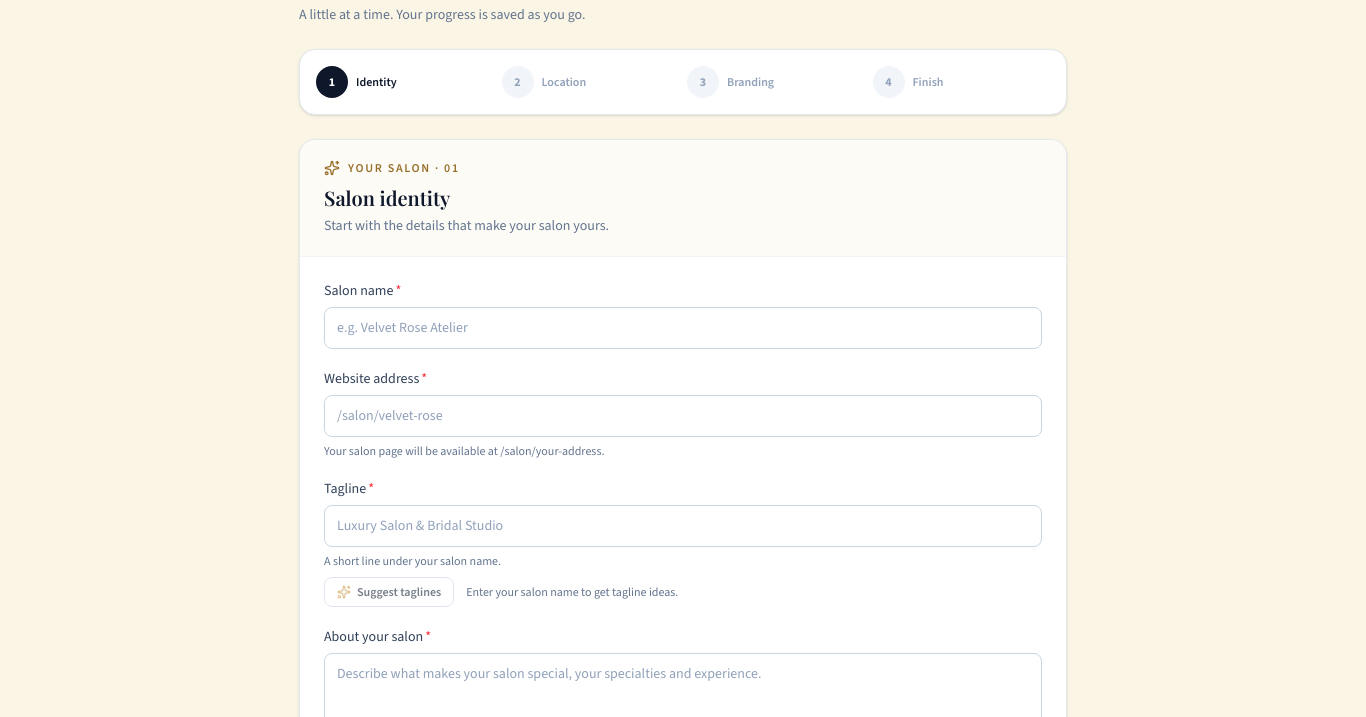
salon onboarding wizard › validates every step, resumes a typed device backup, and completes into the dashboard
Later steps or results of the test are not shown.
Expected: the heading "Salon identity" is shown, [324,184,450,211]
Expected: the field labelled "Street address" is not shown
Step 1. Type "Rose Studio" into the field labelled "Salon name" → (683, 328), box [324,307,1042,349]
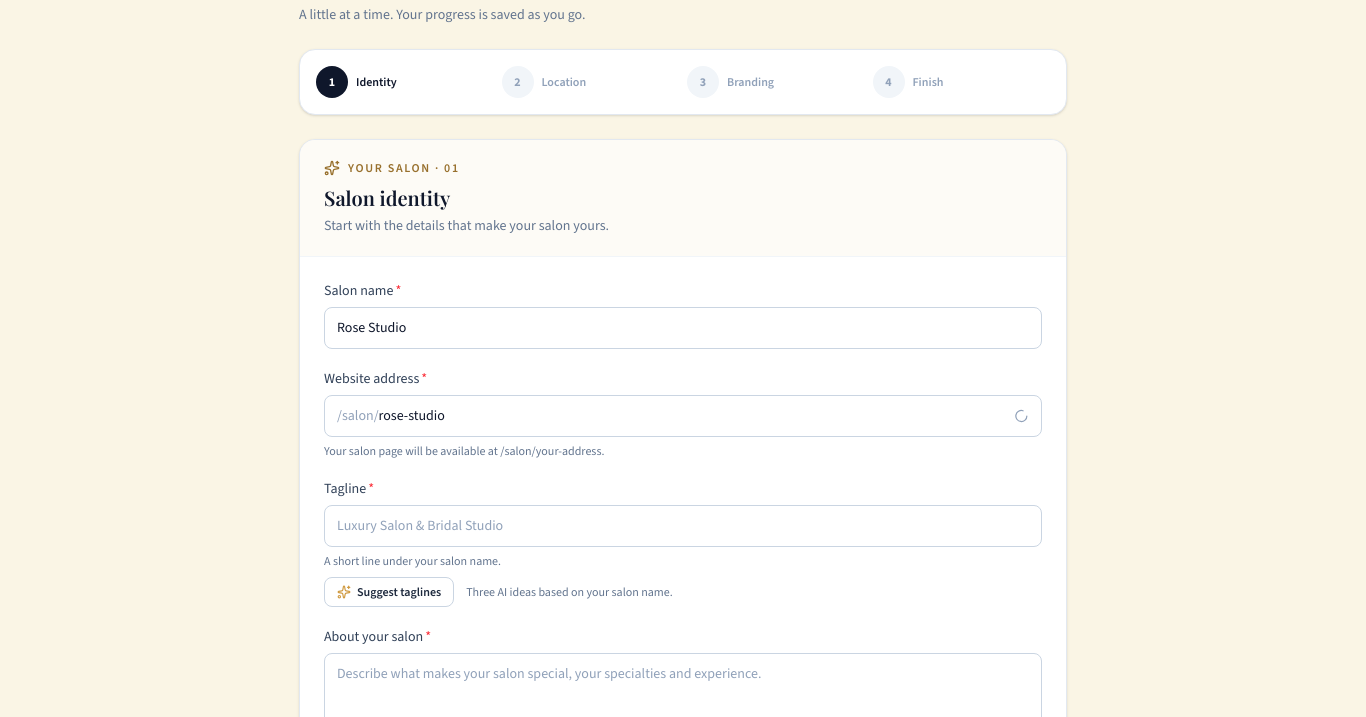
Step 2. Type "A little more glow" into the field labelled "Tagline" → (683, 526), box [324,505,1042,547]
(page scrolled)
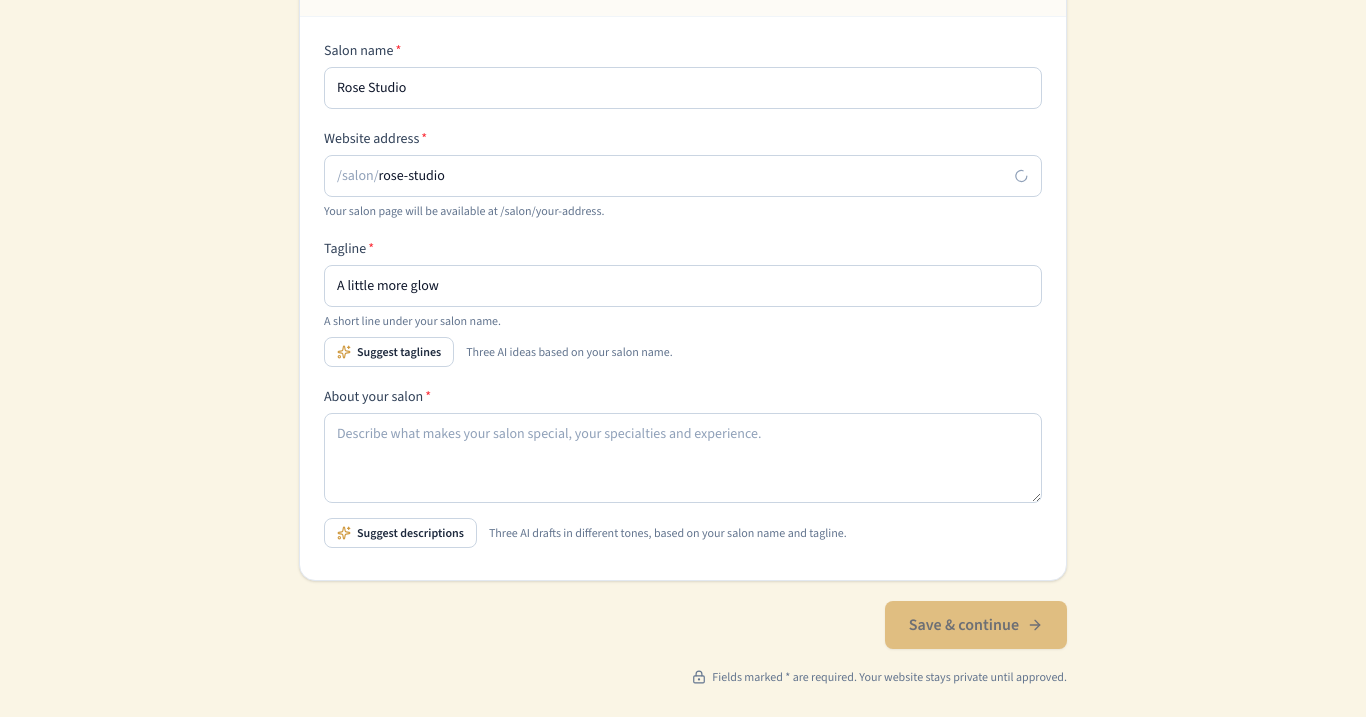
Step 3. Replace the text in the text box labelled "About your salon" with "A welcoming salon for everyone." → (683, 458), box [324,413,1042,503]
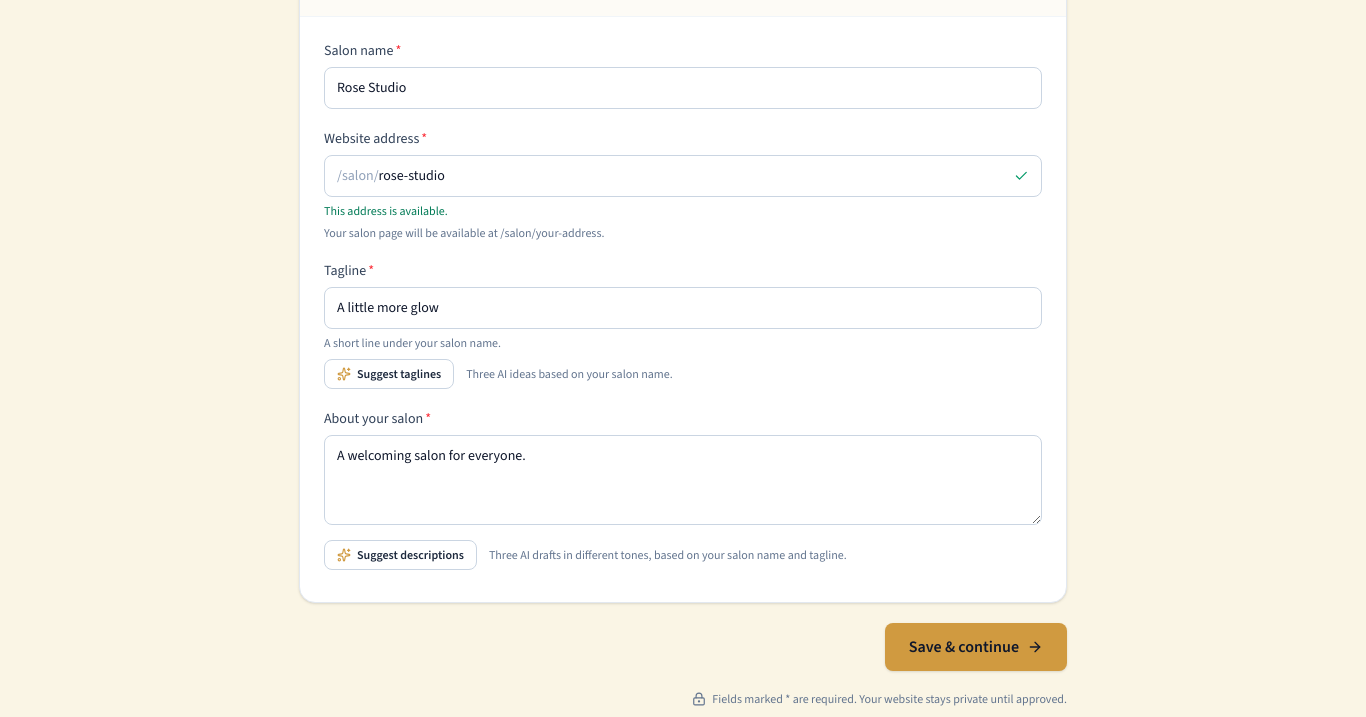
Result: the field labelled "Website address" holds "rose-studio" at [378,156,1014,196]
Result: the button "Save & continue" is enabled
Step 4. Click the button "Save & continue" → (976, 647), box [885,623,1067,671]
(page scrolled)
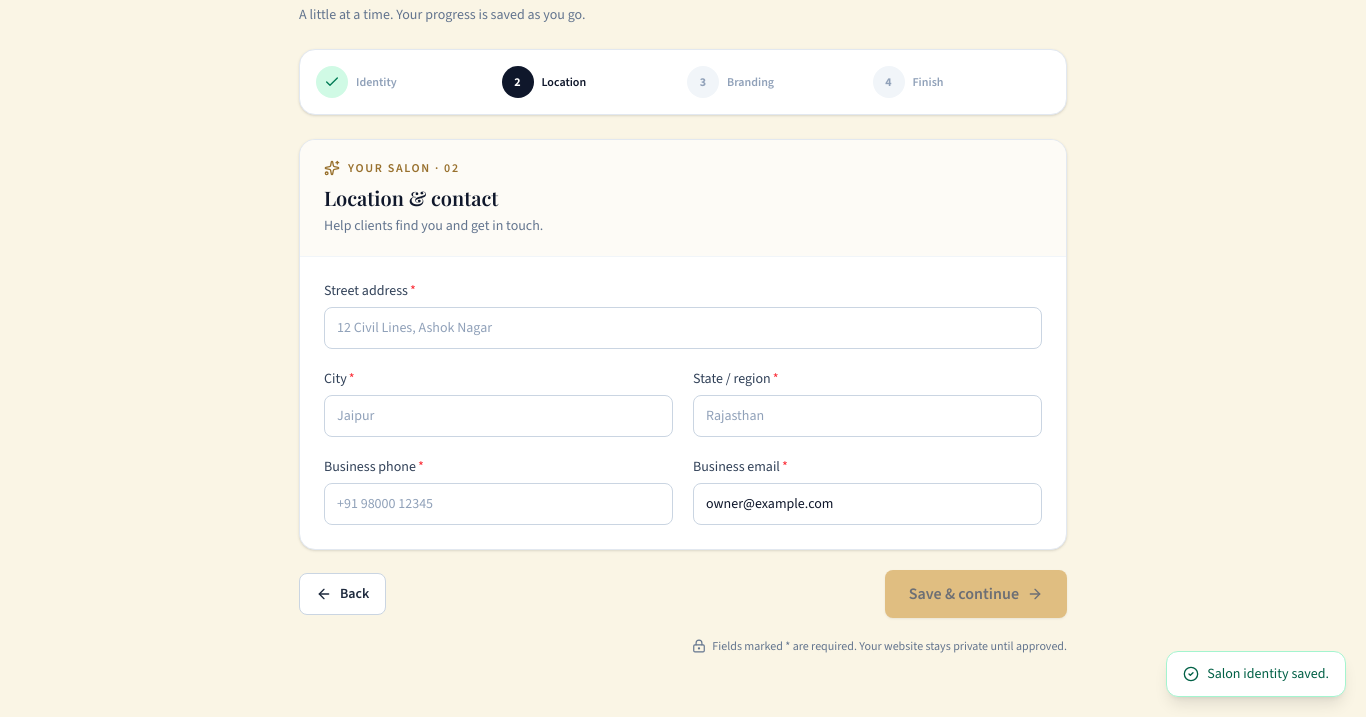
Result: the heading "Location & contact" is shown at [324,184,498,211]
Result: the button "Save & continue" is disabled at [885,570,1067,618]
